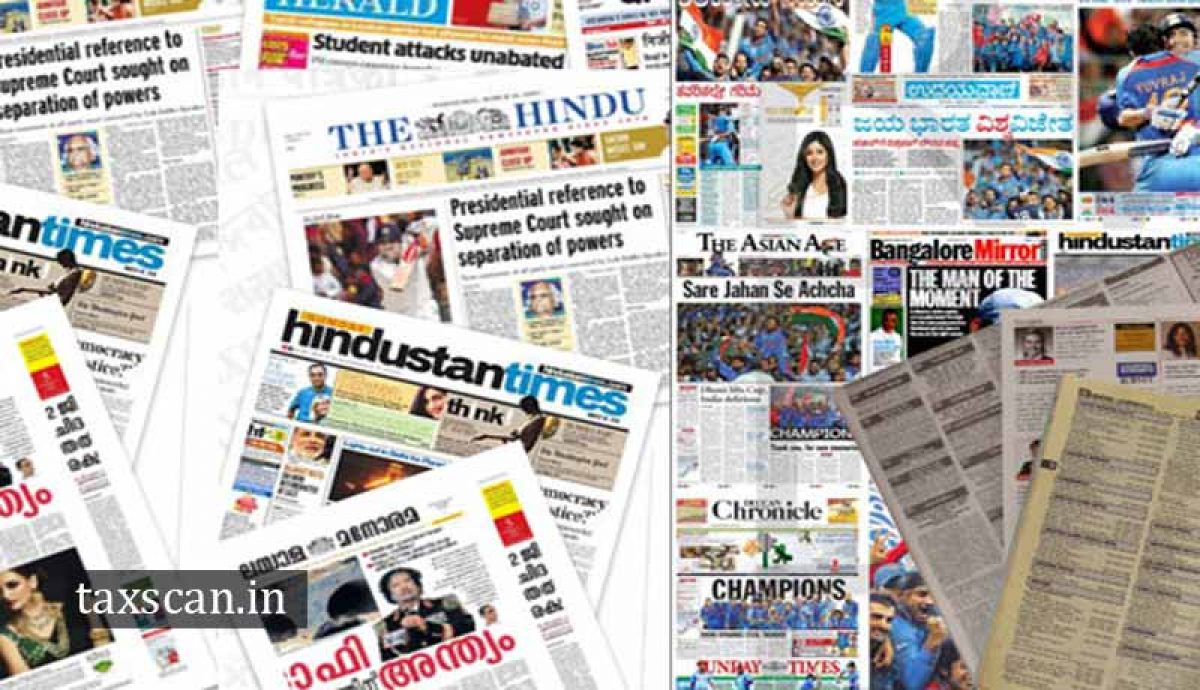news_paper: (537, 1, 1200, 690), (202, 62, 668, 646), (154, 249, 692, 690), (828, 232, 1199, 690), (146, 1, 673, 289), (1, 5, 284, 468), (1, 285, 290, 690), (963, 292, 1200, 676), (1, 169, 211, 545), (980, 360, 1197, 690), (1188, 244, 1200, 282)
